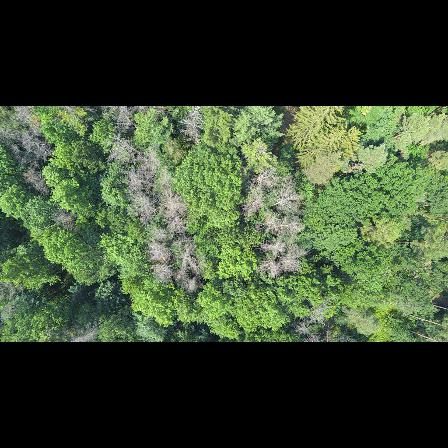Dead: (273, 179, 299, 213), (278, 250, 305, 275), (259, 253, 282, 280), (257, 236, 287, 256), (276, 216, 305, 235), (256, 214, 280, 236)
